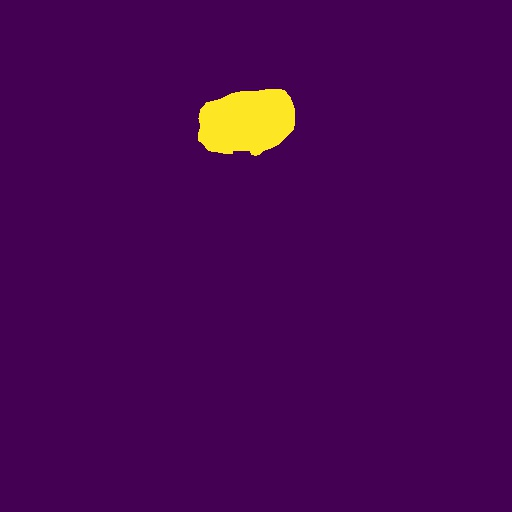Menigiomia_tumour: (198, 89, 295, 156)
